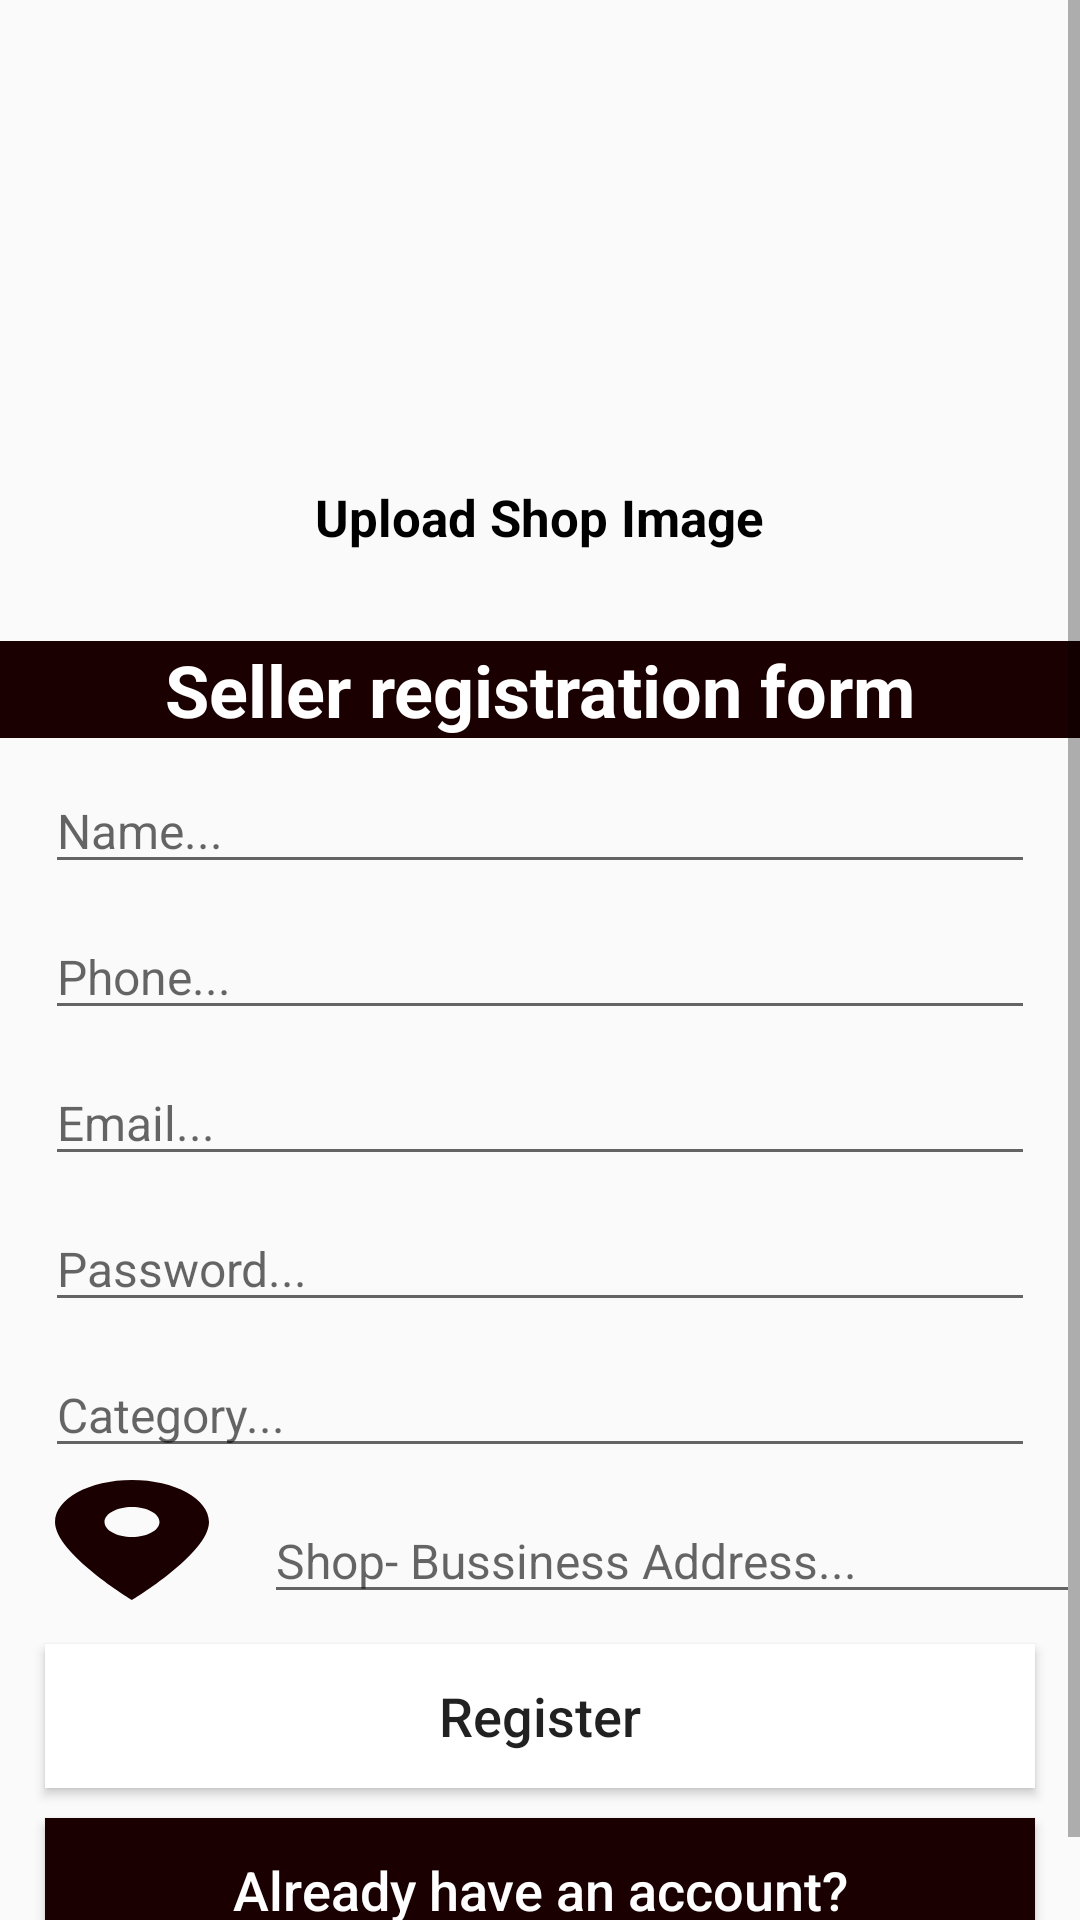

Named icons in this screenshot (1080w x 1920h) and their centers, [x,y]:
location: [132,1540]
